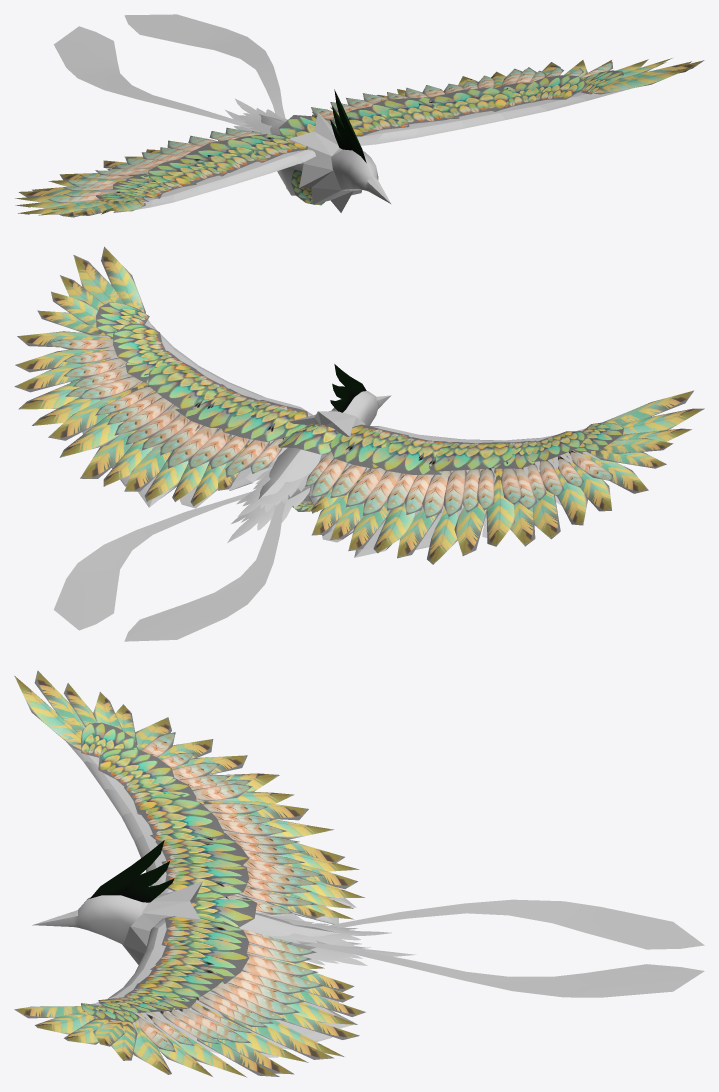
The model's file is bird.fbx.
3 views of the same model, one above another, from view 1: azimuth 30°, elevation 25°; view 2: azimuth 150°, elevation 25°; view 3: azimuth 270°, elevation 25° (orthographic). The views are drawn at different scales.
Parts seen in each view (by area): view 1: feathersR, feathersL, TailL3, TailR, wingL, ruff, wingR, Bird, plume, feathersRearOver, down; view 2: feathersL, feathersR, TailL3, TailR, Bird, wingL, wingR, down, feathersRearOver, FeathersRearUnder, ruff, plume; view 3: feathersR, feathersL, TailR, TailL3, Bird, wingR, wingL, ruff, plume, down, feathersRearOver, FeathersRearUnder.
Part boxes in pixels (x1,y1,x2,y2): feathersR: (15,127,324,217); feathersL: (311,58,704,136); TailL3: (124,14,285,118); TailR: (53,26,259,131); wingL: (356,88,630,145); ruff: (289,113,361,212); wingR: (92,149,315,212); Bird: (259,114,391,204); plume: (330,89,366,162); feathersRearOver: (235,98,287,134); down: (278,115,316,200); feathersL: (14,246,308,506); feathersR: (305,390,704,564); TailL3: (53,491,252,630); TailR: (124,500,285,641); Bird: (258,391,391,503); wingL: (70,319,312,508); wingR: (308,426,606,557); down: (278,424,338,511); feathersRearOver: (236,461,310,516); FeathersRearUnder: (227,478,310,542); ruff: (289,410,365,436); plume: (330,364,366,412); feathersR: (14,670,364,919); feathersL: (14,915,365,1077); TailR: (327,899,704,949); TailL3: (303,943,704,997); Bird: (32,895,339,949); wingR: (66,742,356,924); wingL: (90,918,356,1057); ruff: (123,881,202,964); plume: (90,840,174,902); down: (192,897,256,927); feathersRearOver: (259,912,391,946); FeathersRearUnder: (301,942,416,965).
Bounding box in the file's own units: 101 × 18.88 × 81.9.
